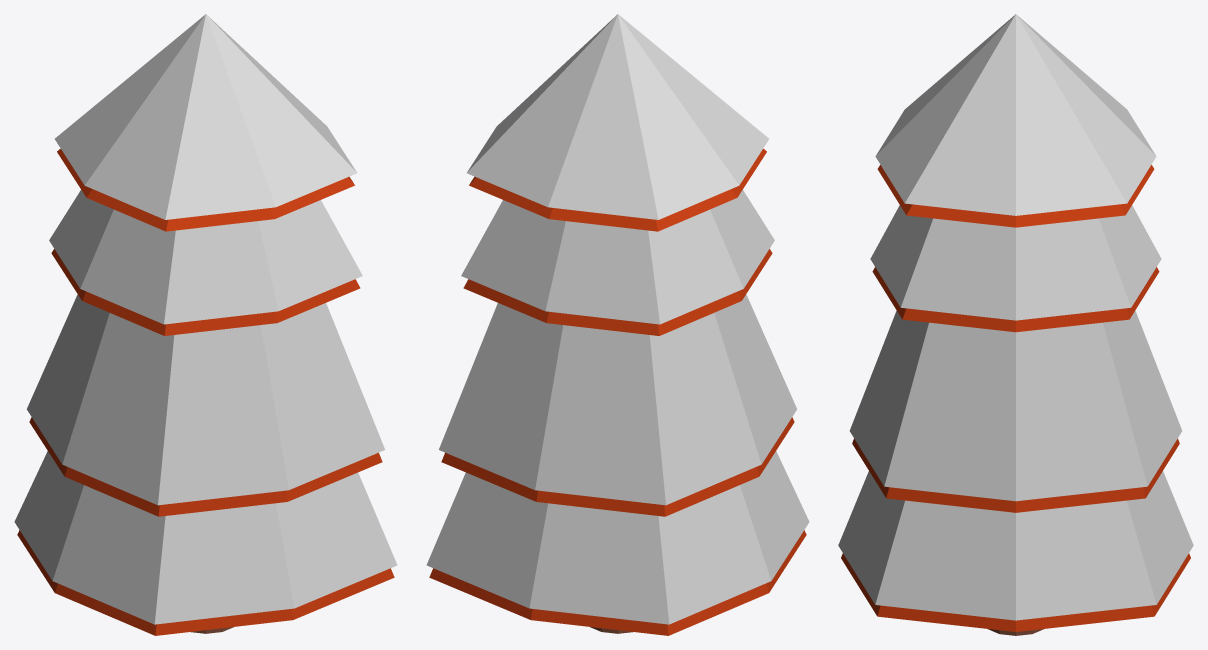
File: Tree_22_winter_red_mat.fbx
3 renders of one model, left to right at view 1: azimuth 30°, elevation 25°; view 2: azimuth 150°, elevation 25°; view 3: azimuth 270°, elevation 25°, orthographic.
Visible parts, largest first — view 1: Tree_22_winter_red_mat; view 2: Tree_22_winter_red_mat; view 3: Tree_22_winter_red_mat.
Part boxes in pixels (x1,y1,x2,y2): Tree_22_winter_red_mat: [14, 14, 397, 635]; Tree_22_winter_red_mat: [426, 14, 809, 635]; Tree_22_winter_red_mat: [838, 14, 1193, 635].
Size of the model in its own units: 84.01 by 159 by 84.01.
